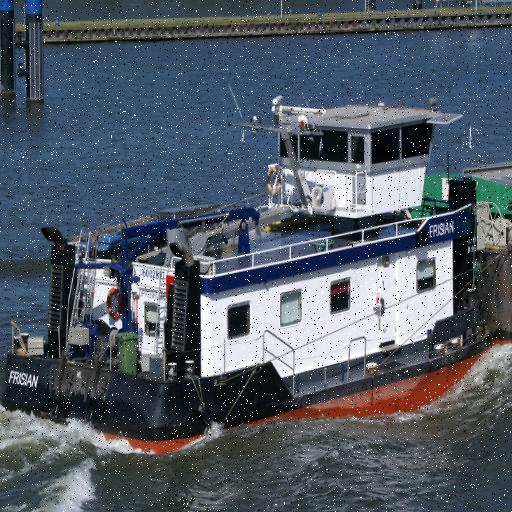tugboat: (1, 90, 496, 468)
